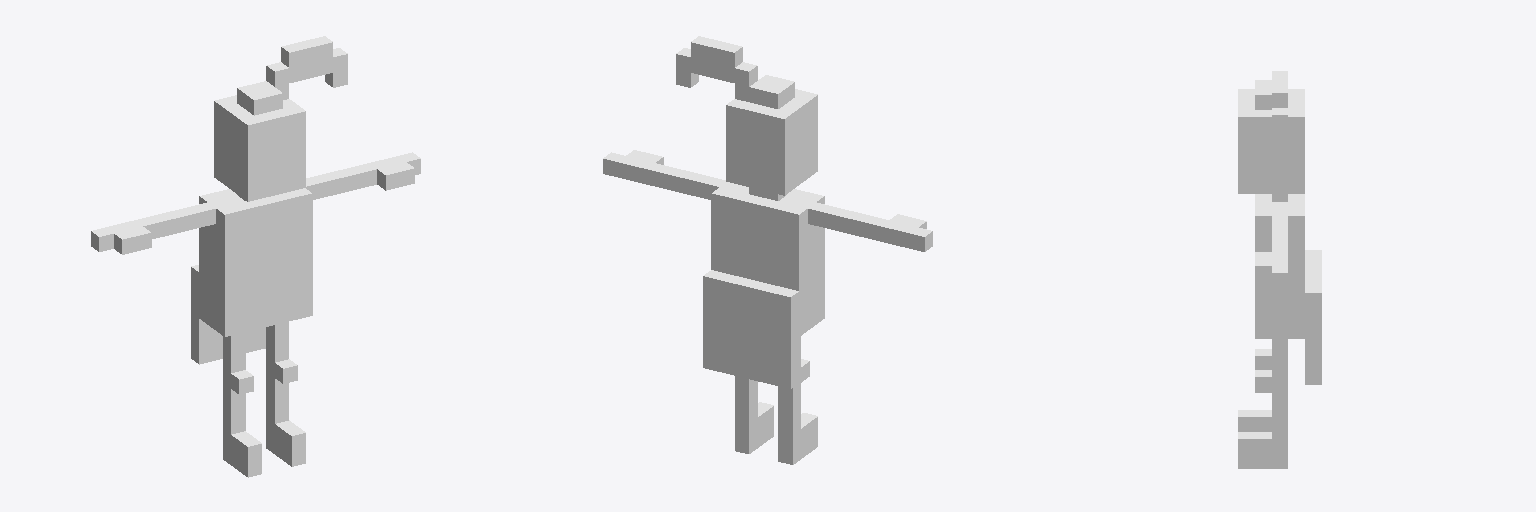
The model's file is rich-man.obj.
The picture shows the model from 3 angles: view 1: azimuth 30°, elevation 25°; view 2: azimuth 150°, elevation 25°; view 3: azimuth 270°, elevation 25°; orthographic projection.
Visible parts, largest first — view 1: object 1; view 2: object 1; view 3: object 1.
Part boxes in pixels (x1,y1,x2,y2): object 1: (91,36,420,477); object 1: (603,36,932,464); object 1: (1238,71,1321,468).
Bounding box in the file's own units: 2.2 × 2.6 × 0.5.